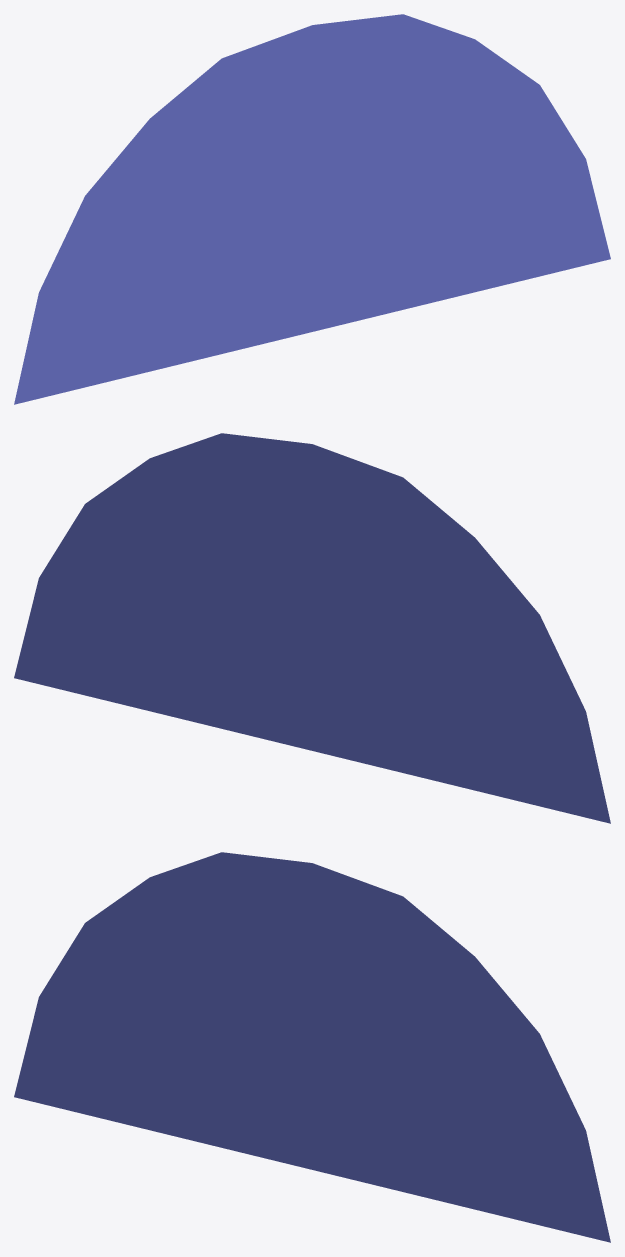
File: CeilingHalfCircle.fbx
The picture shows the model from 3 angles, top to bottom: view 1: azimuth 30°, elevation 25°; view 2: azimuth 150°, elevation 25°; view 3: azimuth 330°, elevation 25°; orthographic projection.
Visible parts, largest first — view 1: Plane.035; view 2: Plane.035; view 3: Plane.035.
Boxes of the visible parts, x1,y1,x2,y2 form: Plane.035: (14, 14, 610, 404); Plane.035: (14, 433, 610, 823); Plane.035: (14, 852, 610, 1242).
Size of the model in its own units: 200 by 98.25 by 1.6e-05.
